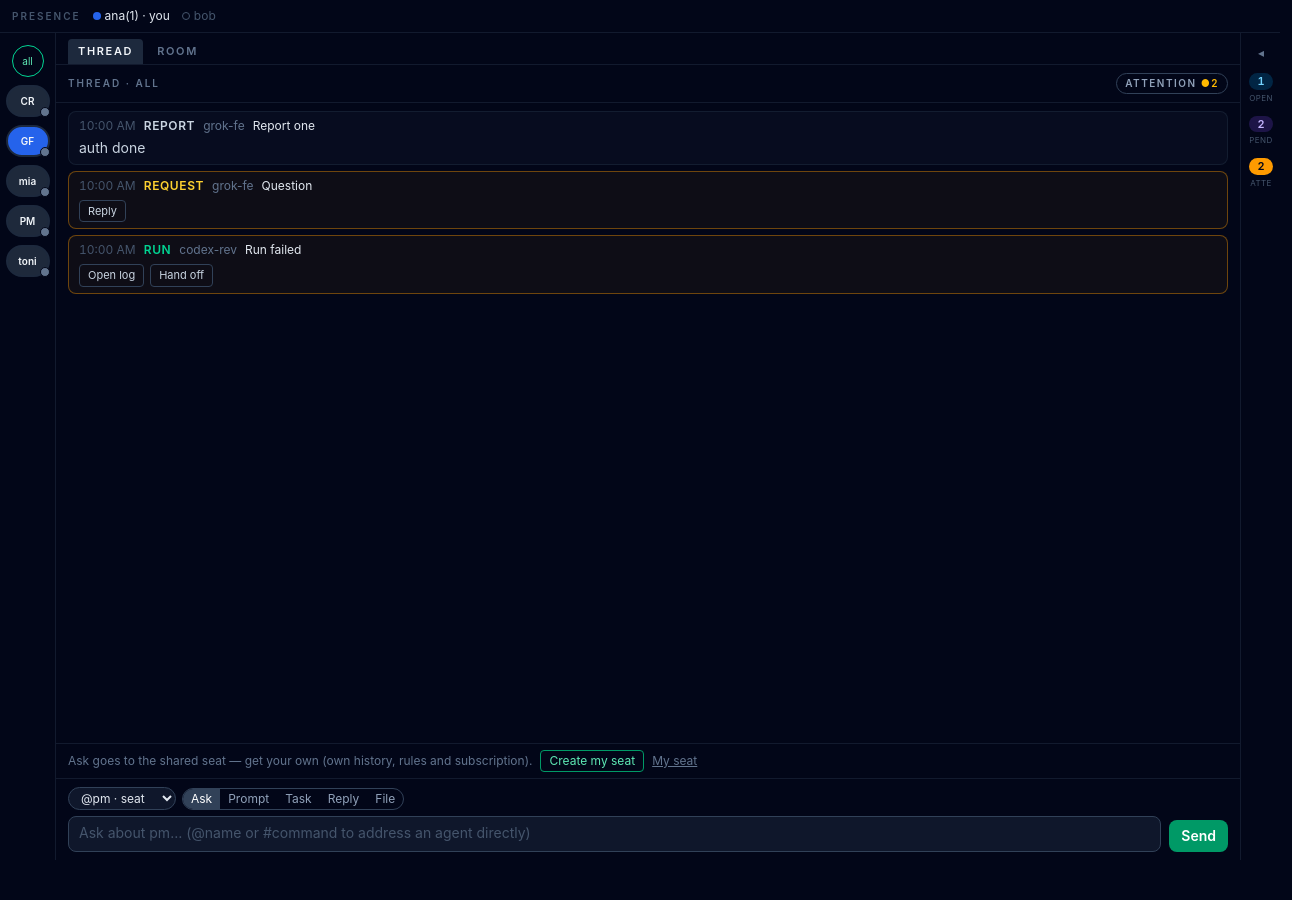
Test: CommandCenter › collapsible Board and Roster (spec §4.4) › defaults to the 40px rail with badges when the viewer owns no running task; click expands, ▸ collapses
This screenshot has width=1292, height=900.
Expected: the text "Report one" is shown, [253,118,315,132]
Expected: the element named "Open tasks: 1" is shown, [1249,73,1273,104]
Click the button with aria-label "Expand board".
click(1260, 446)  # box [1241,33,1280,860]
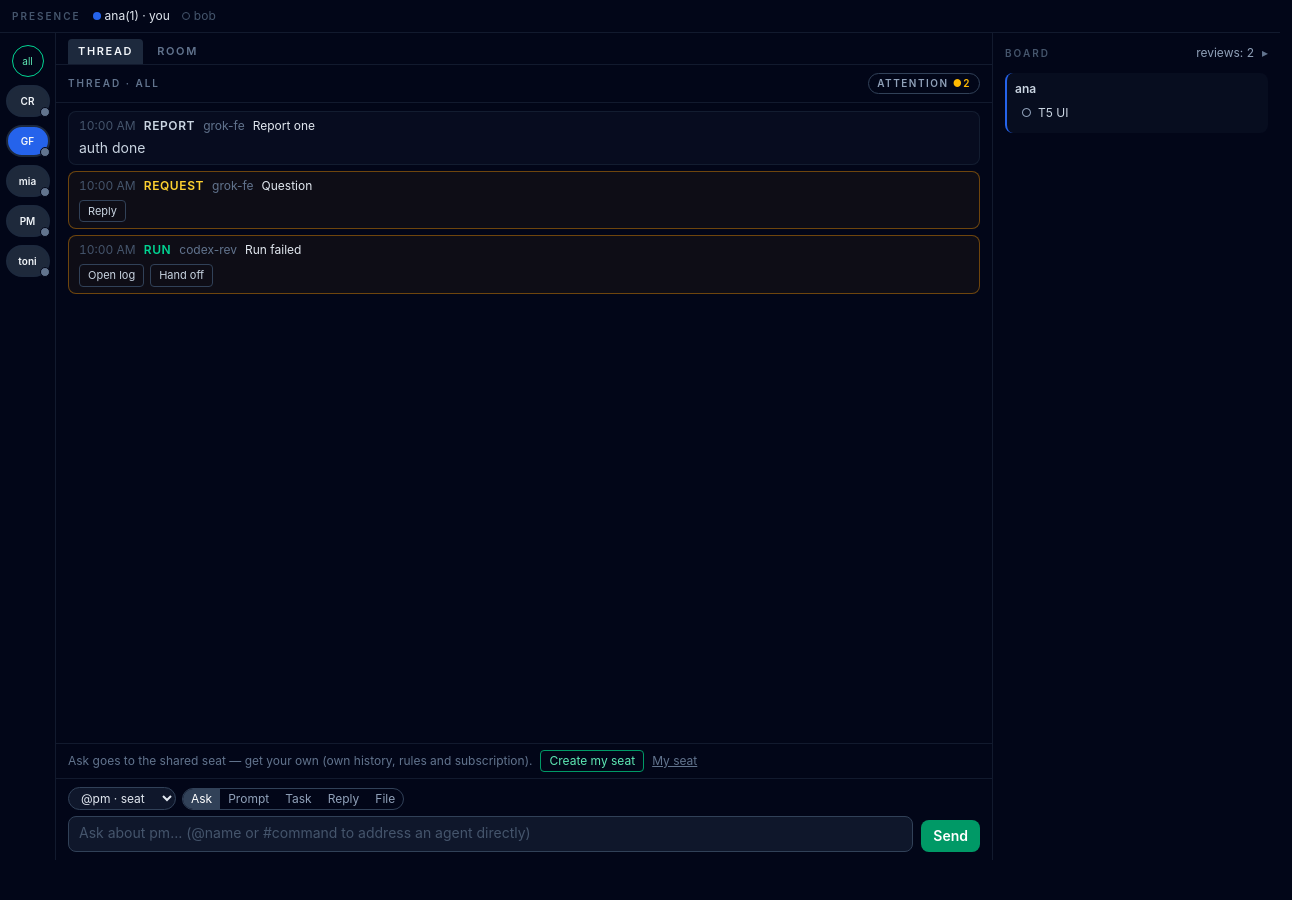
Expected: the element with test id "board-rail" is gone
Click the button named "Collapse board".
click(1265, 53)  # box [1262,45,1268,61]
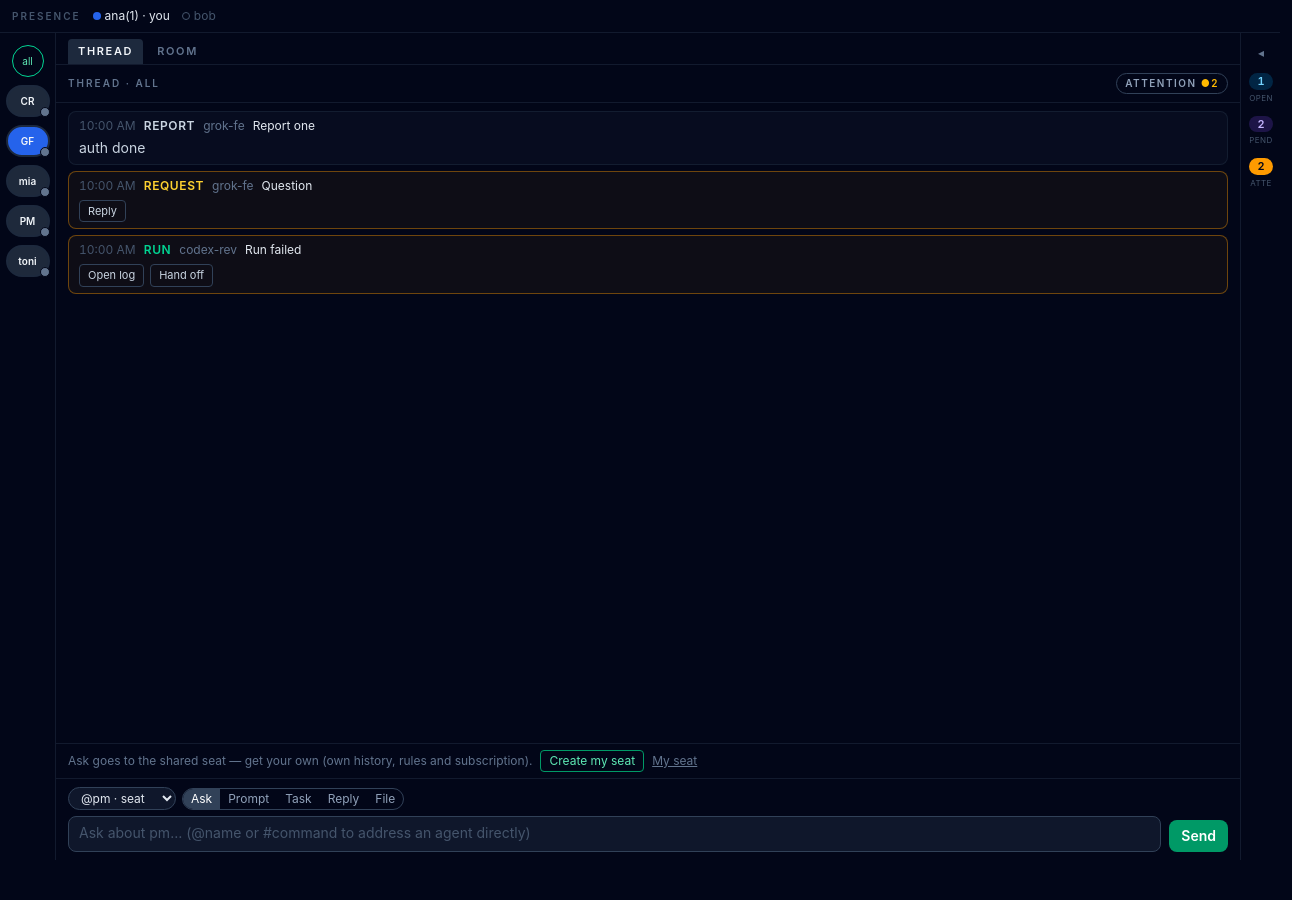
Expected: the element with test id "board-rail" is shown, [1241,33,1280,860]
